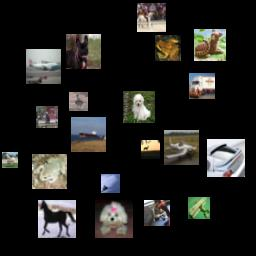airplane: (26, 49, 61, 84), (164, 130, 199, 165), (188, 197, 210, 219), (101, 174, 120, 193)
automobile: (207, 139, 245, 177)
bird: (36, 106, 58, 128), (69, 92, 88, 111)
cat: (194, 29, 226, 61), (144, 200, 170, 226)
deer: (141, 140, 160, 159)
dog: (95, 200, 133, 238), (66, 34, 101, 69), (123, 91, 155, 123)
frog: (32, 154, 67, 189), (155, 35, 181, 61)
ship: (71, 117, 106, 152)
truck: (189, 73, 215, 99)
